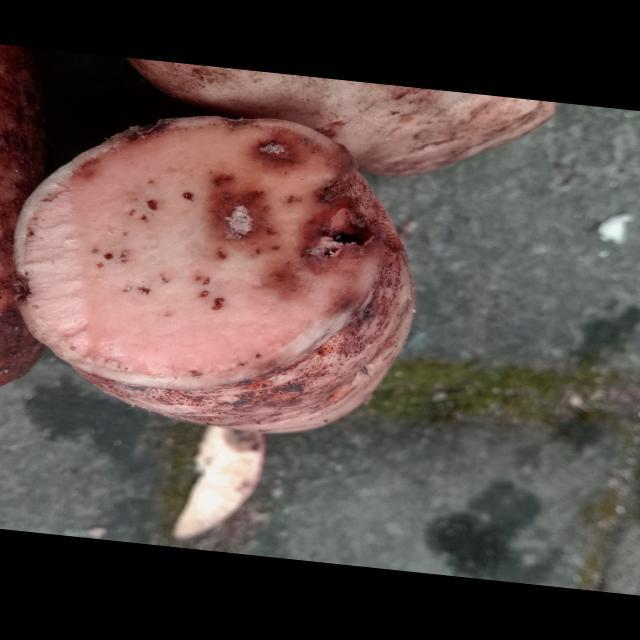Sick Sweet Potato_Tuber Rot: (15, 116, 385, 389)
